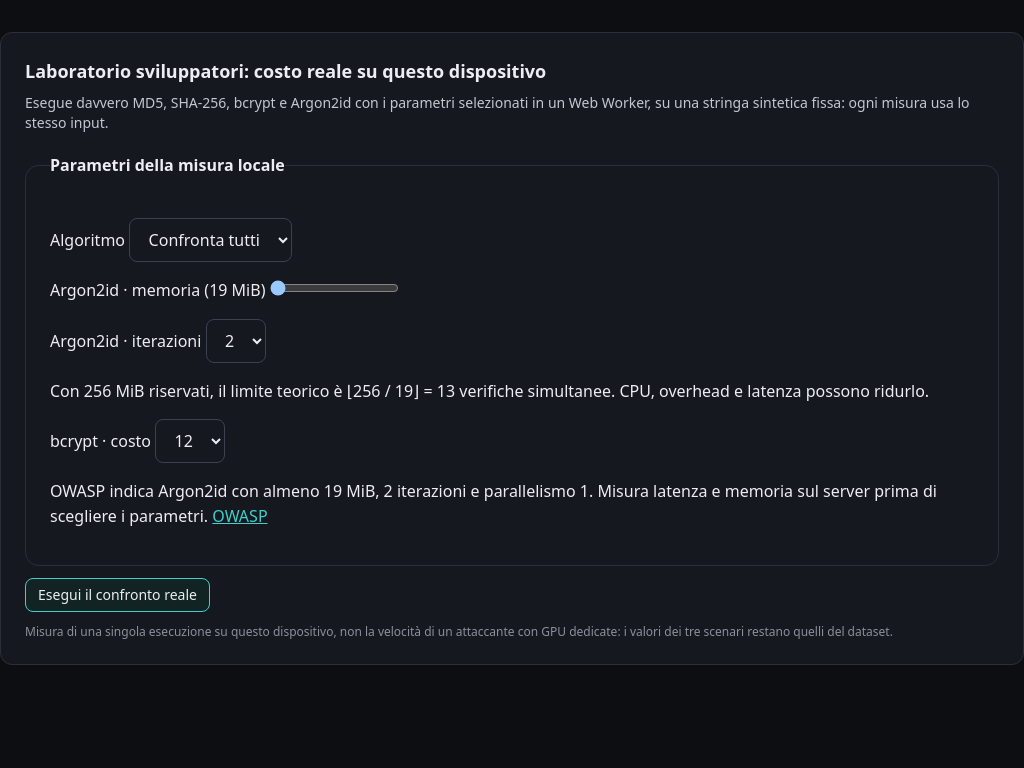
Test: LocalKdfLab › reports a failure without crashing
This screenshot has width=1024, height=768.
Click the button "Esegui il confronto reale": (118, 595) [25,578,210,612]
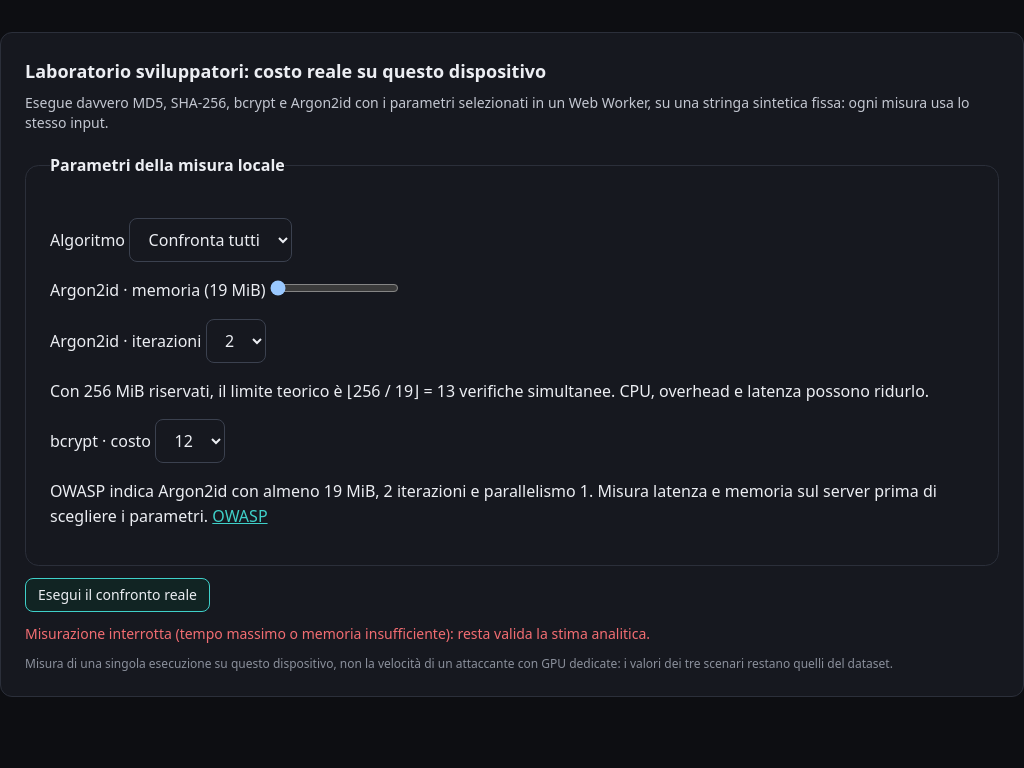
Now the text "Misurazione interrotta" is shown, box [25,624,650,643]
